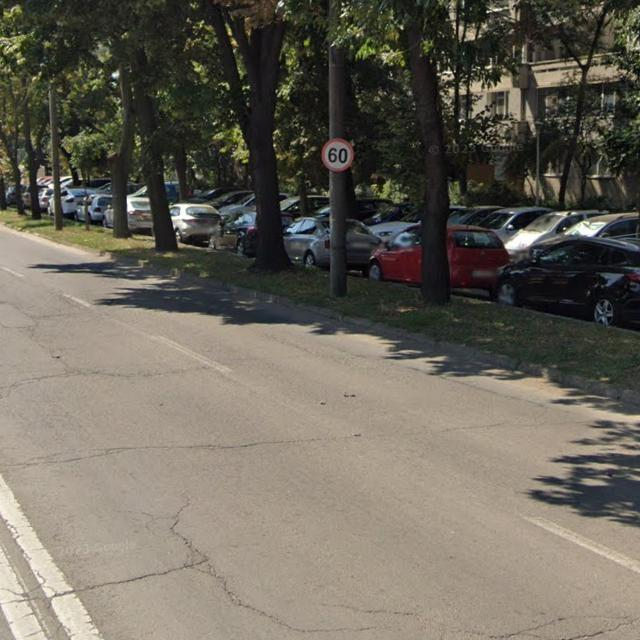forb_speed_over_60: (321, 138, 354, 172)
